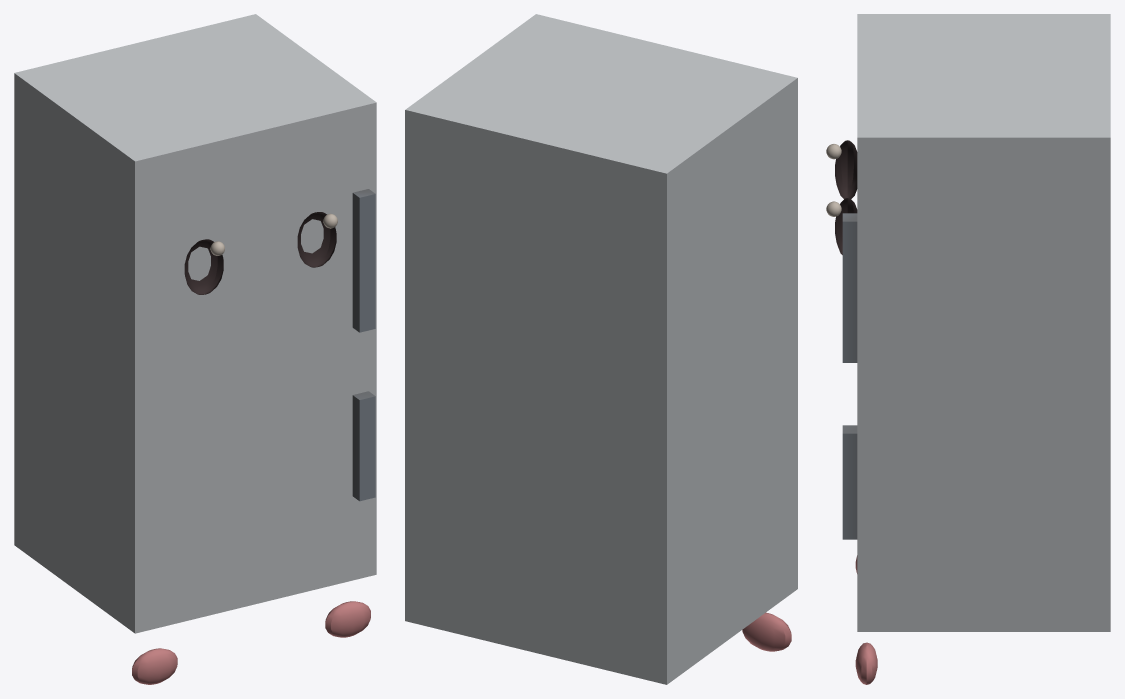
3 views of the same model, side by side, from view 1: azimuth 30°, elevation 25°; view 2: azimuth 150°, elevation 25°; view 3: azimuth 270°, elevation 25° (orthographic). The views are drawn at different scales.
Visible parts, largest first — view 1: pet_pc015354d; view 2: pet_pc015354d; view 3: pet_pc015354d.
Part boxes in pixels (left/top/right/bottom): pet_pc015354d: left=14, top=14, right=376, bottom=684; pet_pc015354d: left=405, top=14, right=797, bottom=684; pet_pc015354d: left=826, top=14, right=1110, bottom=684.
Size of the model in its own units: 0.3 by 0.6302 by 0.2919.
